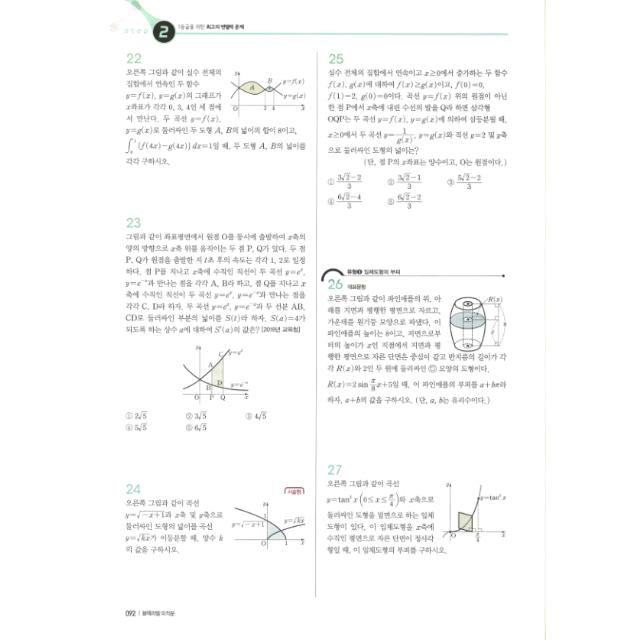multiple: (114, 209, 310, 443), (320, 44, 520, 220)
short: (318, 260, 520, 420), (117, 44, 311, 184), (317, 457, 518, 569), (115, 473, 311, 565)
